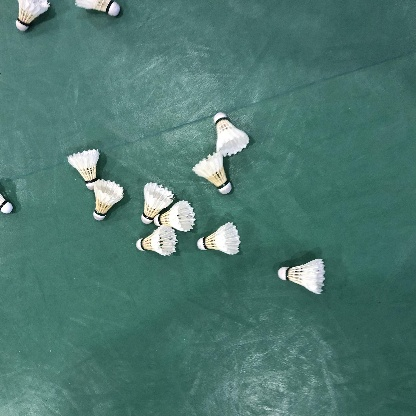ball_single: (192, 151, 232, 194), (277, 259, 326, 294), (214, 112, 250, 158), (197, 222, 241, 255), (141, 182, 174, 224), (67, 149, 100, 190), (154, 200, 196, 232), (136, 225, 178, 256), (93, 179, 124, 221), (16, 0, 50, 31), (75, 0, 120, 16), (0, 194, 13, 214)
